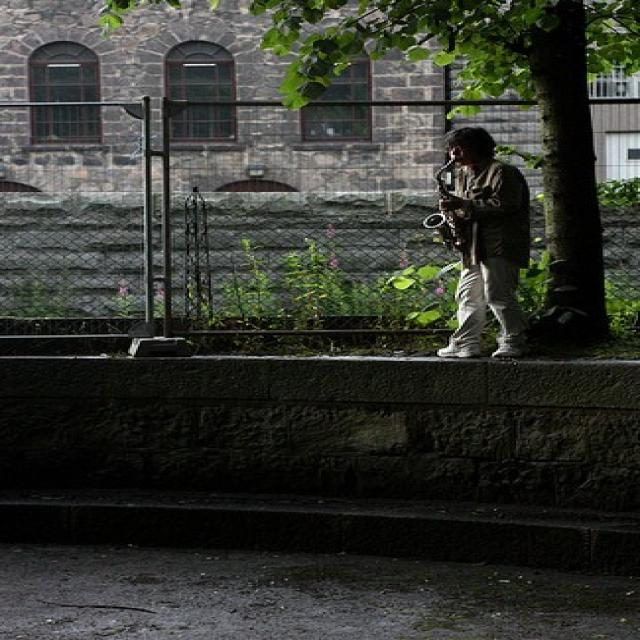saxophone: (422, 153, 470, 246)
